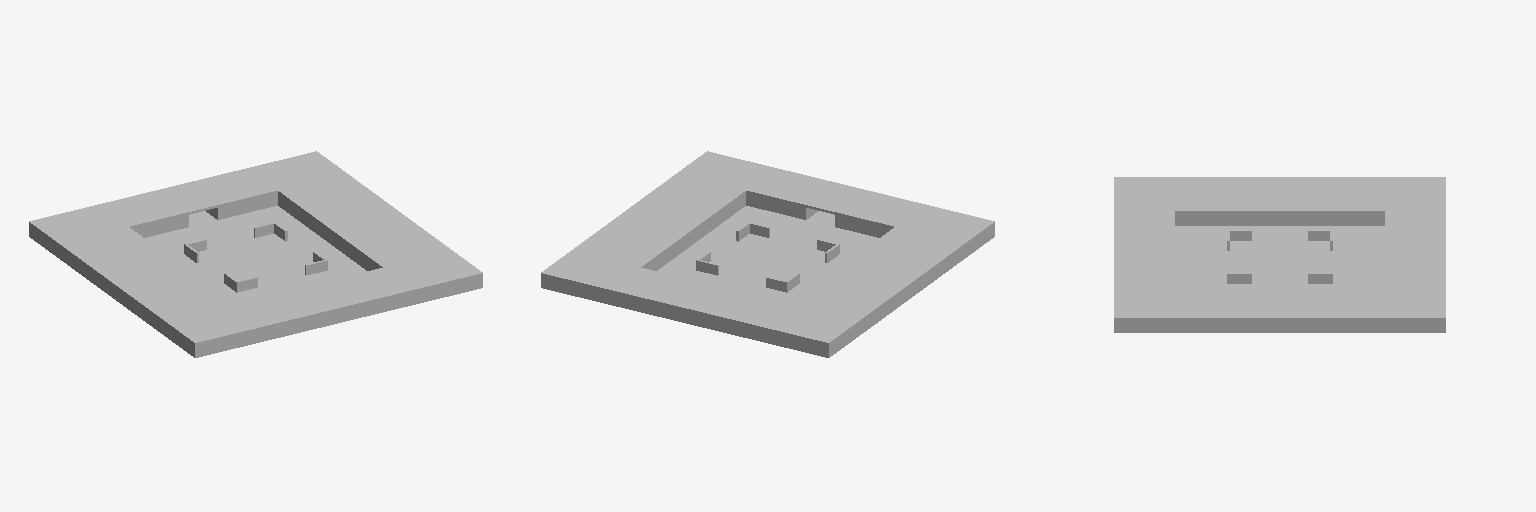
Rendered from arena2.obj.
3 views of the same model, side by side, from view 1: azimuth 30°, elevation 25°; view 2: azimuth 150°, elevation 25°; view 3: azimuth 270°, elevation 25° (orthographic).
Visible parts, largest first — view 1: arena2.004; view 2: arena2.004; view 3: arena2.004.
Boxes of the visible parts, x1=… form: arena2.004: x1=29, y1=151, x2=482, y2=357; arena2.004: x1=541, y1=151, x2=994, y2=357; arena2.004: x1=1114, y1=177, x2=1445, y2=332.
Bounding box in the file's own units: 12 × 0.7 × 12.